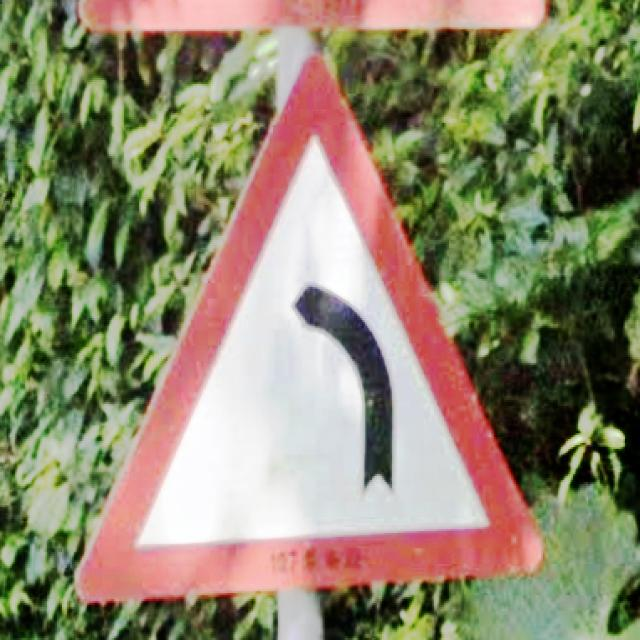leftbend: (77, 55, 545, 605)
